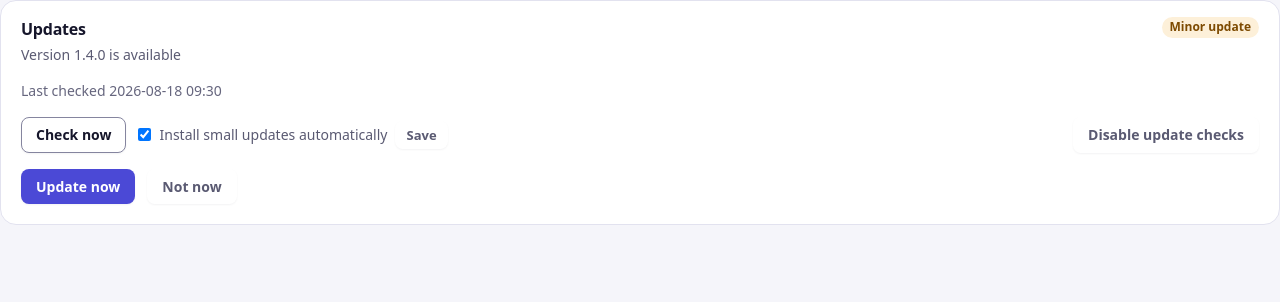
MUST-9.8: the two apply outcomes render their exact sentences › the accepted sentence is shown verbatim
The width and height of the screenshot is (1280, 302).
Click the button "Update now" at (78, 186), box [21,168,135,204]
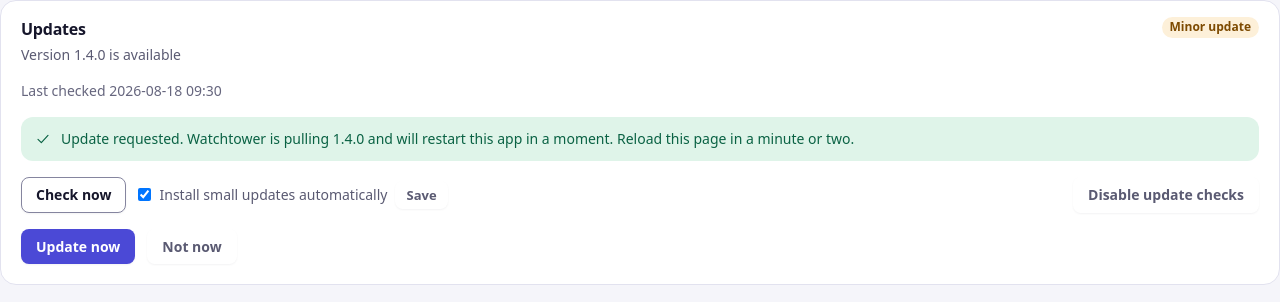
Now the text "Update requested. Watchtower is pulling 1.4.0 and will restart this app in a moment. Reload this page in a minute or two" is shown, box [61,129,854,148]
